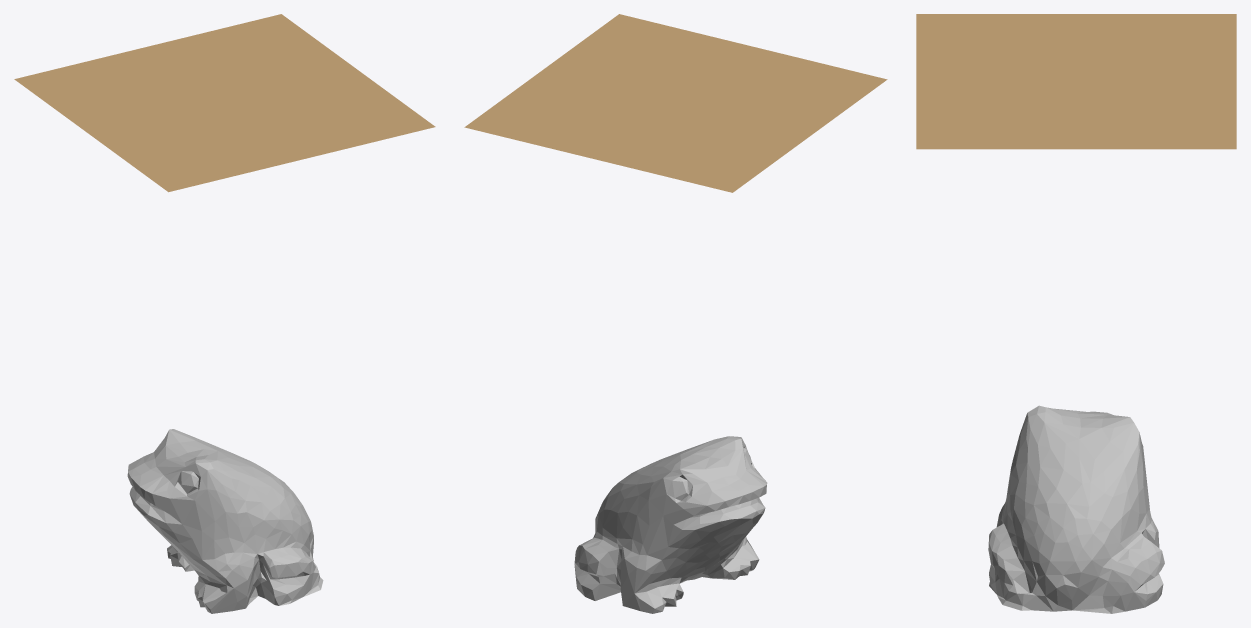
The model's file is init.glb.
3 renders of one model, left to right at view 1: azimuth 30°, elevation 25°; view 2: azimuth 150°, elevation 25°; view 3: azimuth 270°, elevation 25°, orthographic. The views are drawn at different scales.
Parts seen in each view (by area): view 1: world, object.obj; view 2: world, object.obj; view 3: world, object.obj.
Boxes of the visible parts, box(x1,y1,x2,y2) form: world: box(14, 14, 435, 192); object.obj: box(127, 429, 323, 613); world: box(464, 14, 887, 192); object.obj: box(574, 436, 767, 613); world: box(916, 14, 1236, 149); object.obj: box(988, 405, 1164, 613).
Size of the model in its own units: 0.5882 by 0.9994 by 0.5882.
